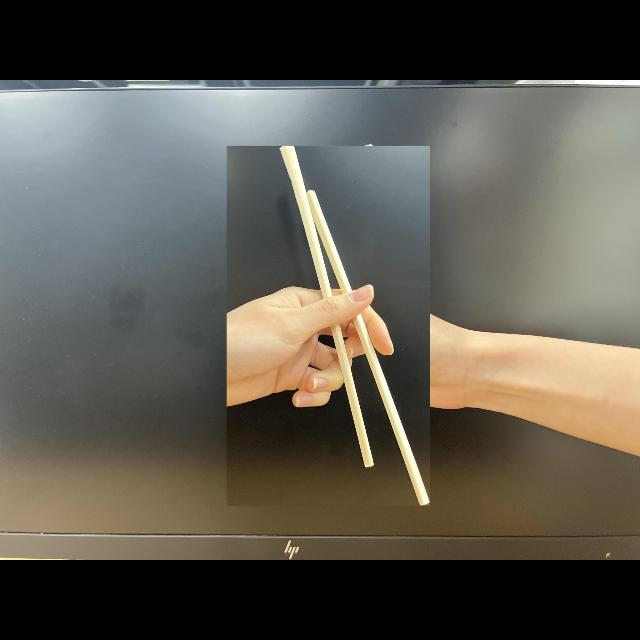stick: (226, 146, 429, 506)
